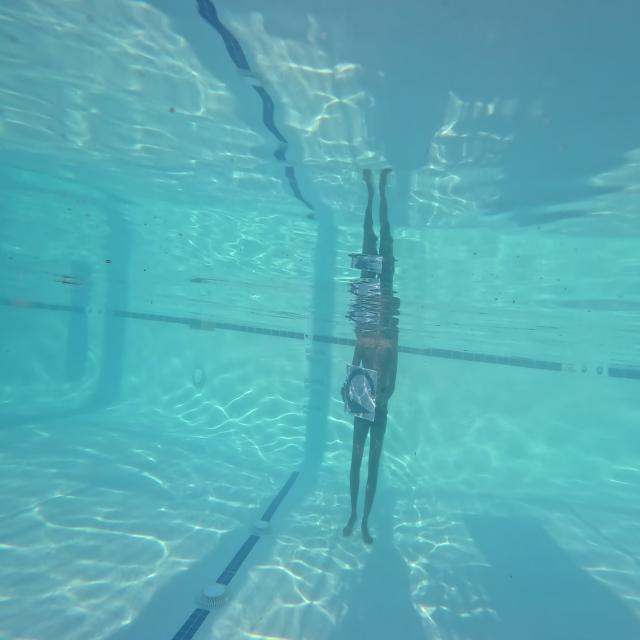blue_side: (344, 365, 376, 423)
